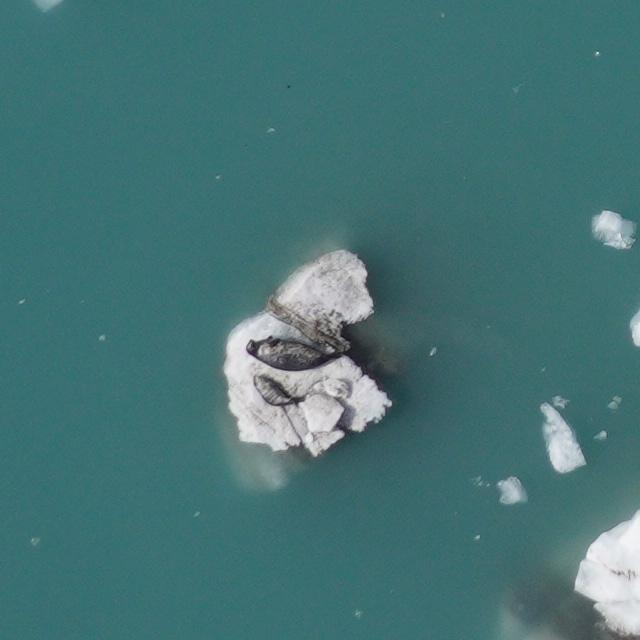seal: (244, 333, 340, 376), (249, 371, 298, 417)
